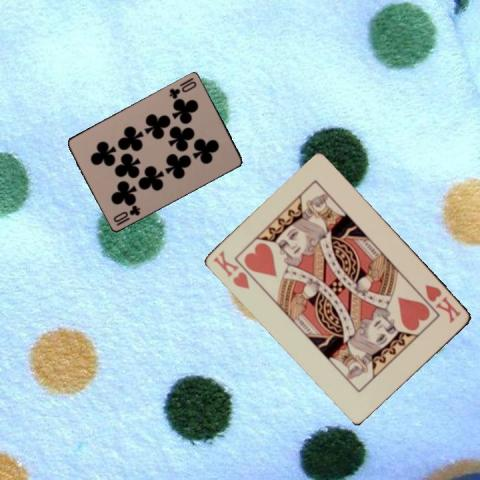10c: (166, 74, 198, 100), (110, 201, 142, 227)
Kh: (210, 246, 252, 290), (422, 281, 463, 325)
